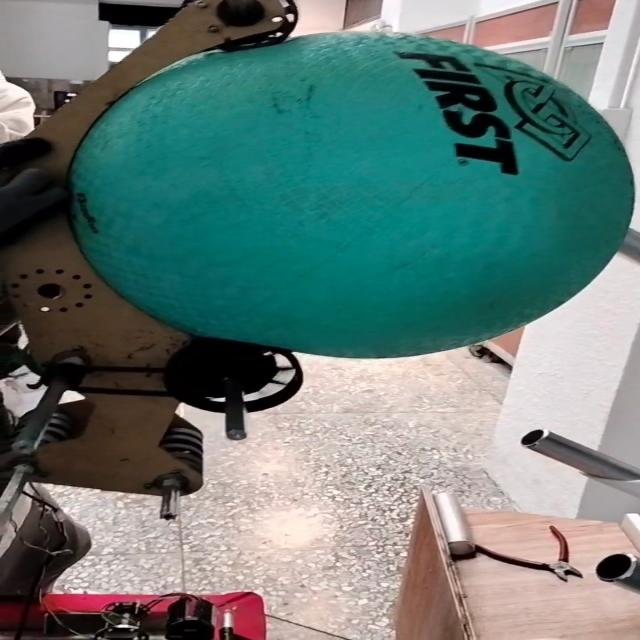ALGAE: (63, 24, 634, 362)
